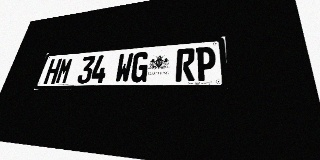3: (76, 56, 96, 84)
4: (90, 55, 109, 83)
G: (130, 51, 150, 83)
H: (43, 58, 62, 84)
M: (55, 57, 74, 84)
P: (195, 46, 216, 81)
R: (175, 48, 195, 82)
W: (114, 53, 134, 83)
